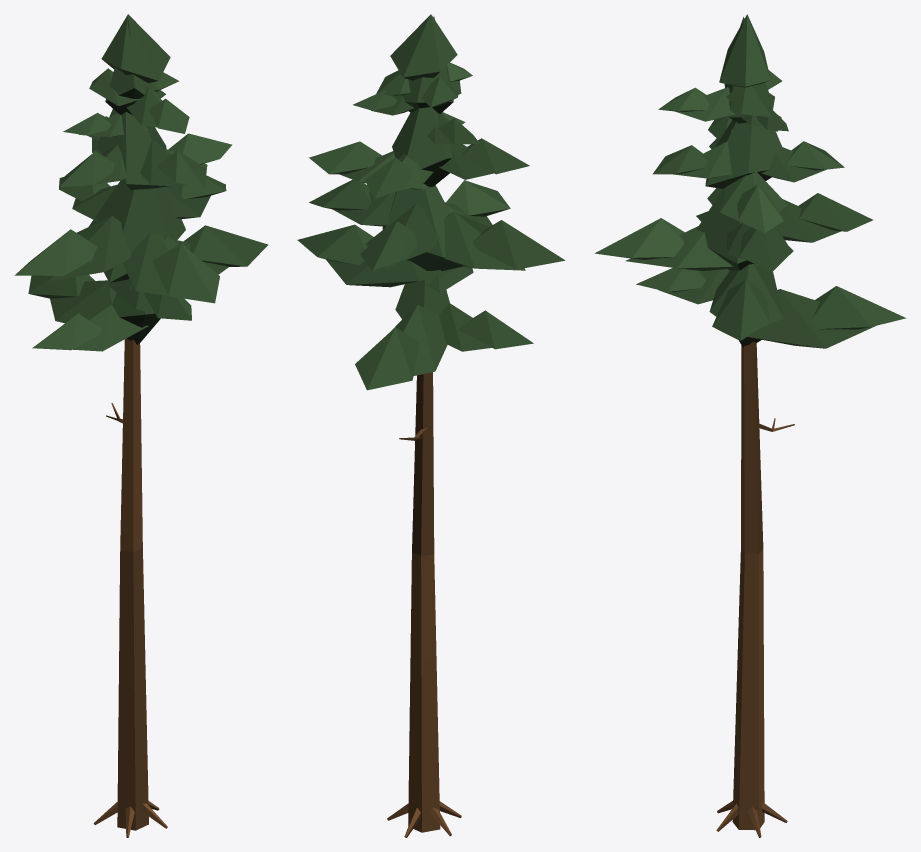
The model's file is pine-02-far.glb.
3 renders of one model, left to right at view 1: azimuth 30°, elevation 25°; view 2: azimuth 150°, elevation 25°; view 3: azimuth 270°, elevation 25°, orthographic.
Visible parts, largest first — view 1: pine-02-far; view 2: pine-02-far; view 3: pine-02-far.
Part boxes in pixels (x1,y1,x2,y2): pine-02-far: (14, 14, 268, 837); pine-02-far: (297, 14, 565, 837); pine-02-far: (594, 14, 906, 837).
Bounding box in the file's own units: 3.71 × 11 × 3.86.
